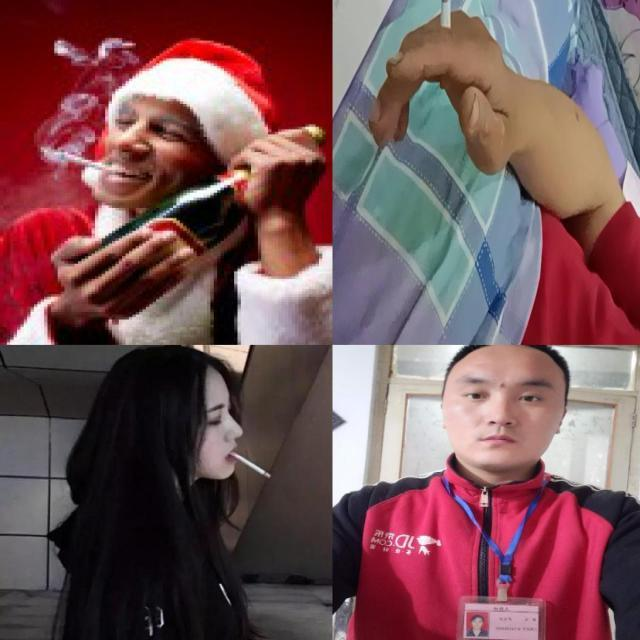smoking: (51, 147, 126, 175), (228, 450, 274, 480), (439, 0, 452, 91)
